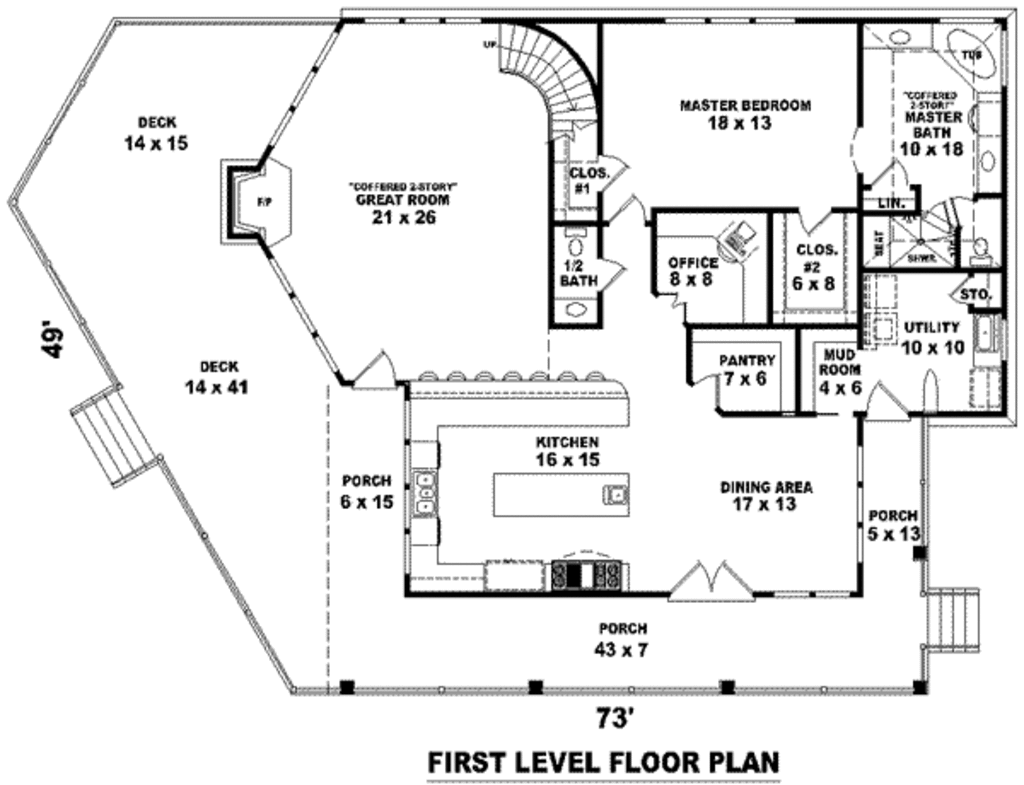door: (672, 556, 751, 602), (355, 349, 405, 390), (870, 380, 911, 421), (691, 374, 722, 417), (611, 196, 646, 225), (801, 206, 834, 234), (602, 257, 627, 289), (605, 158, 628, 189), (873, 167, 894, 186)
kitchen_bar: (433, 561, 634, 600)
large_sink: (557, 221, 591, 265), (967, 227, 994, 267)
small_sink: (885, 23, 923, 50), (980, 146, 1004, 180)
stairs: (483, 22, 598, 127), (71, 380, 163, 485), (926, 585, 977, 652)
tub: (939, 27, 1004, 84)
twin_sink: (410, 467, 443, 519)
window: (362, 13, 476, 24), (670, 18, 791, 25), (771, 590, 841, 600), (857, 443, 862, 557)
